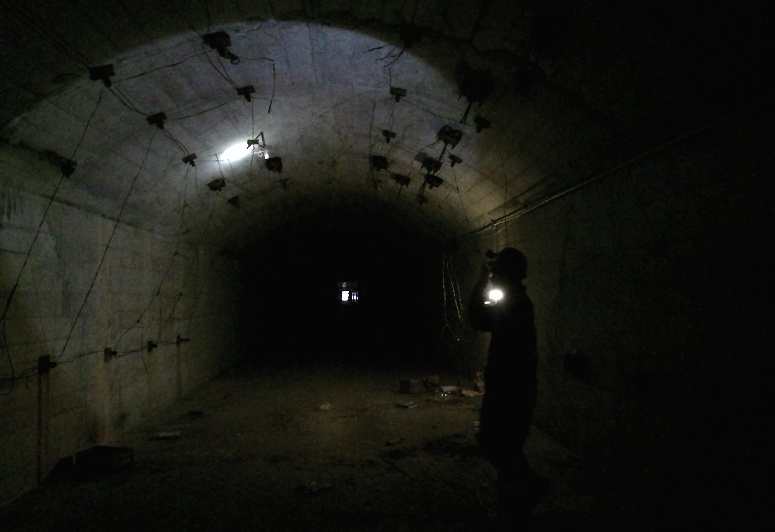person: (485, 250, 556, 532)
